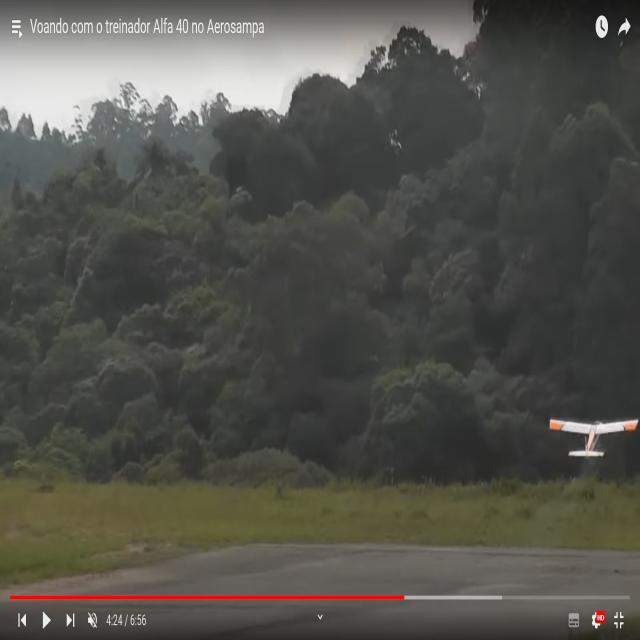iha: (581, 412, 606, 459)
